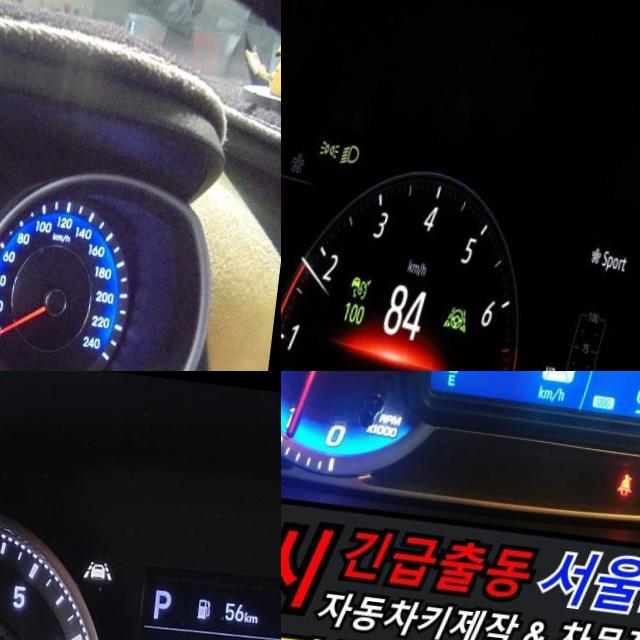LaneCenteringOff: (450, 294, 479, 325), (86, 552, 117, 578)
Low beam: (343, 136, 364, 163)
SideLamp: (322, 131, 345, 154)
